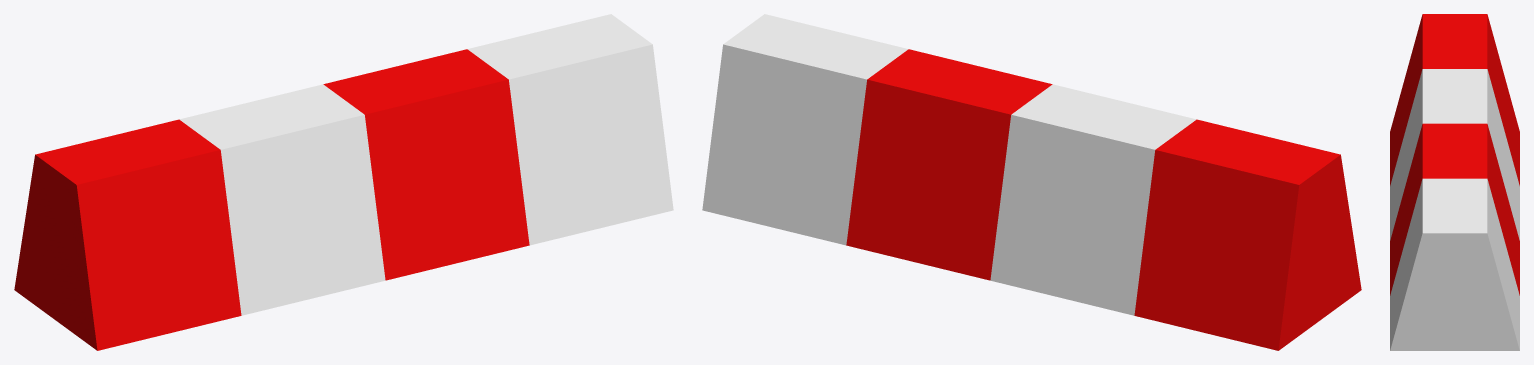
File: Barrier04RedWhite.fbx
3 views of the same model, side by side, from view 1: azimuth 30°, elevation 25°; view 2: azimuth 150°, elevation 25°; view 3: azimuth 270°, elevation 25° (orthographic). The views are drawn at different scales.
Visible parts, largest first — view 1: Barrier04RedWhite; view 2: Barrier04RedWhite; view 3: Barrier04RedWhite.
Boxes of the visible parts, left/top/right/bottom form: Barrier04RedWhite: left=14, top=14, right=673, bottom=350; Barrier04RedWhite: left=702, top=14, right=1361, bottom=350; Barrier04RedWhite: left=1390, top=14, right=1519, bottom=350.
Size of the model in its own units: 8 by 2 by 2.
